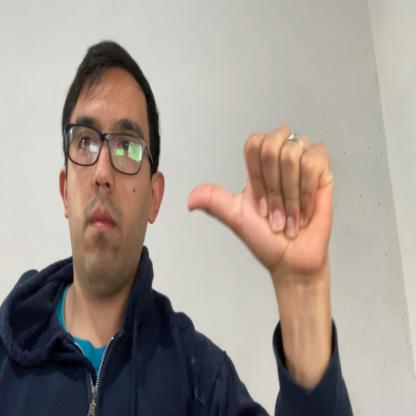A: (188, 119, 334, 274)
